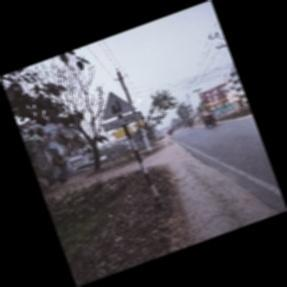Mosque in front: (99, 90, 142, 136)
